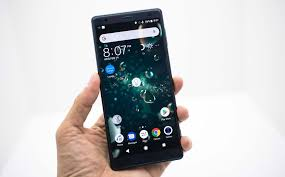sony: (91, 8, 181, 173)
